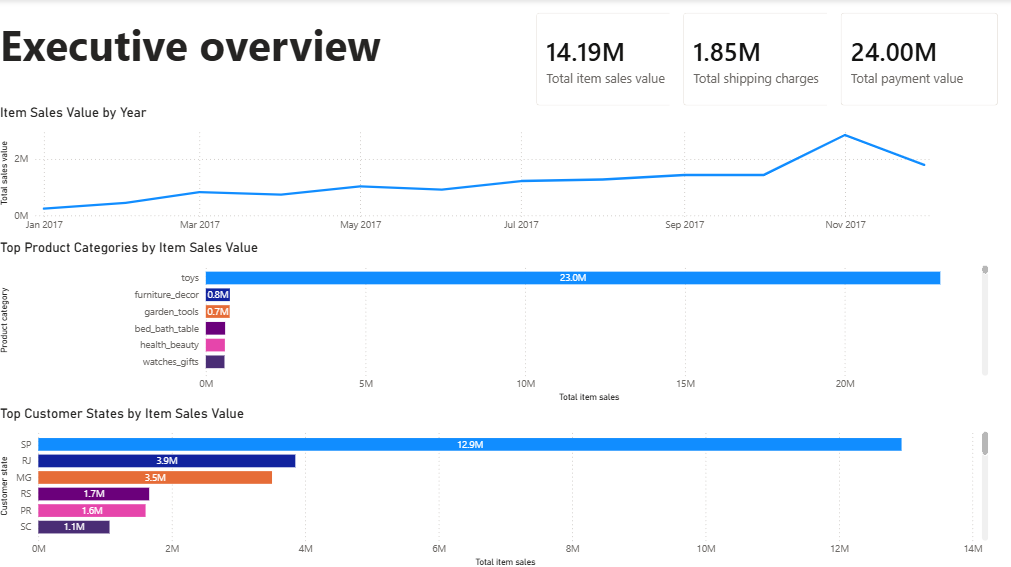

Layout of this report page (visuals, bound fields, positions):
{"tool":"powerbi","page":{"name":"Executive Overview","canvas":[1280,720],"ordinal":0},"visuals":[{"type":"textbox","box":[0,15.1,548,151.2],"z":0},{"type":"lineChart","title":"Item Sales Value by Year","fields":{"Category":["monthly_item_sales_trend.order_month.Variation.Date Hierarchy.Year","monthly_item_sales_trend.order_month.Variation.Date Hierarchy.Month","monthly_item_sales_trend.order_month.Variation.Date Hierarchy.Day"],"Y":["Sum(monthly_item_sales_trend.total_item_sales_value)"]},"box":[0,132.3,1200,170.1],"z":1000},{"type":"cardVisual","fields":{"Data":["Sum(monthly_item_sales_trend.total_item_sales_value)"]},"box":[663.3,0,383.6,151.2],"z":2000},{"type":"barChart","title":"Top Product Categories by Item Sales Value","fields":{"Category":["product_category_performance.product_category_name"],"Y":["Sum(product_category_performance.total_item_sales_value)"],"Series":["product_category_performance.product_category_name"]},"box":[0,302.4,1254.8,209.8],"z":3000},{"type":"cardVisual","fields":{"Data":["Sum(monthly_item_sales_trend.total_shipping_charges)"]},"box":[848.5,0,351.5,151.2],"z":4000},{"type":"barChart","title":"Top Customer States by Item Sales Value","fields":{"Category":["customer_state_performance.customer_state"],"Y":["Sum(customer_state_performance.total_item_sales_value)"],"Series":["customer_state_performance.customer_state"]},"box":[0,512.1,1254.8,207.9],"z":5000},{"type":"cardVisual","fields":{"Data":["Sum(payment_installment_behavior.total_payment_value)"]},"box":[1046.9,0,232.4,151.2],"z":6000}]}

Visuals, with their boxes in screenshot pixels (x1, y1, x2, y2), scaled from the page's 1280x720 canvas onto the 1011x567 screenshot:
textbox: left=0, top=12, right=433, bottom=131
"Item Sales Value by Year" lineChart: left=0, top=104, right=948, bottom=238
cardVisual - Sum(monthly_item_sales_trend.total_item_sales_value): left=524, top=0, right=827, bottom=119
"Top Product Categories by Item Sales Value" barChart: left=0, top=238, right=991, bottom=403
cardVisual - Sum(monthly_item_sales_trend.total_shipping_charges): left=670, top=0, right=948, bottom=119
"Top Customer States by Item Sales Value" barChart: left=0, top=403, right=991, bottom=566
cardVisual - Sum(payment_installment_behavior.total_payment_value): left=827, top=0, right=1010, bottom=119
